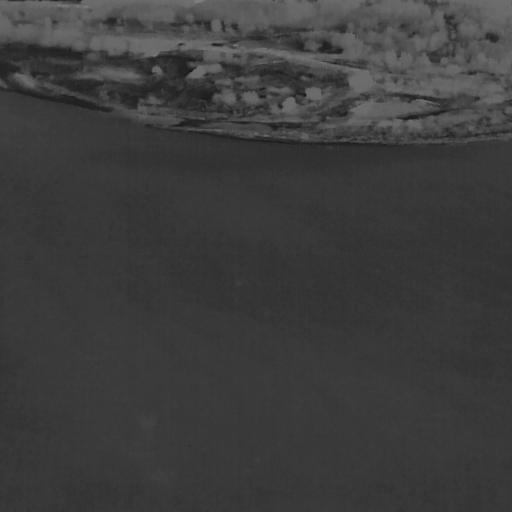uav: (372, 267, 381, 275)
